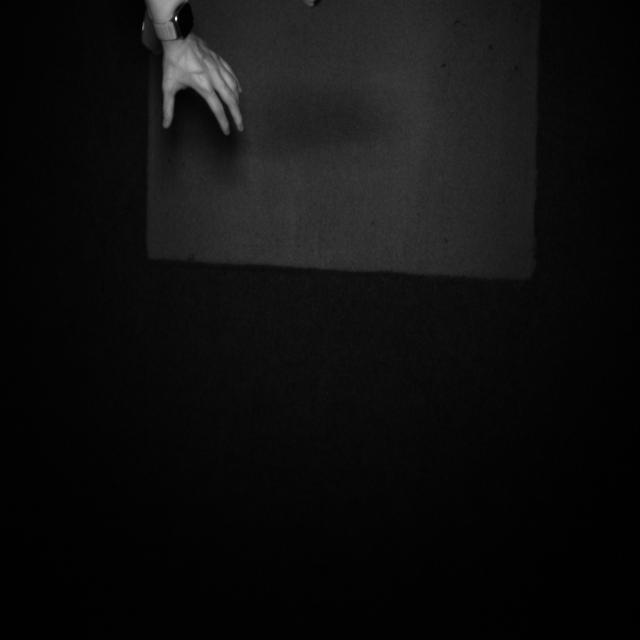no-gloves: (152, 40, 250, 146)
